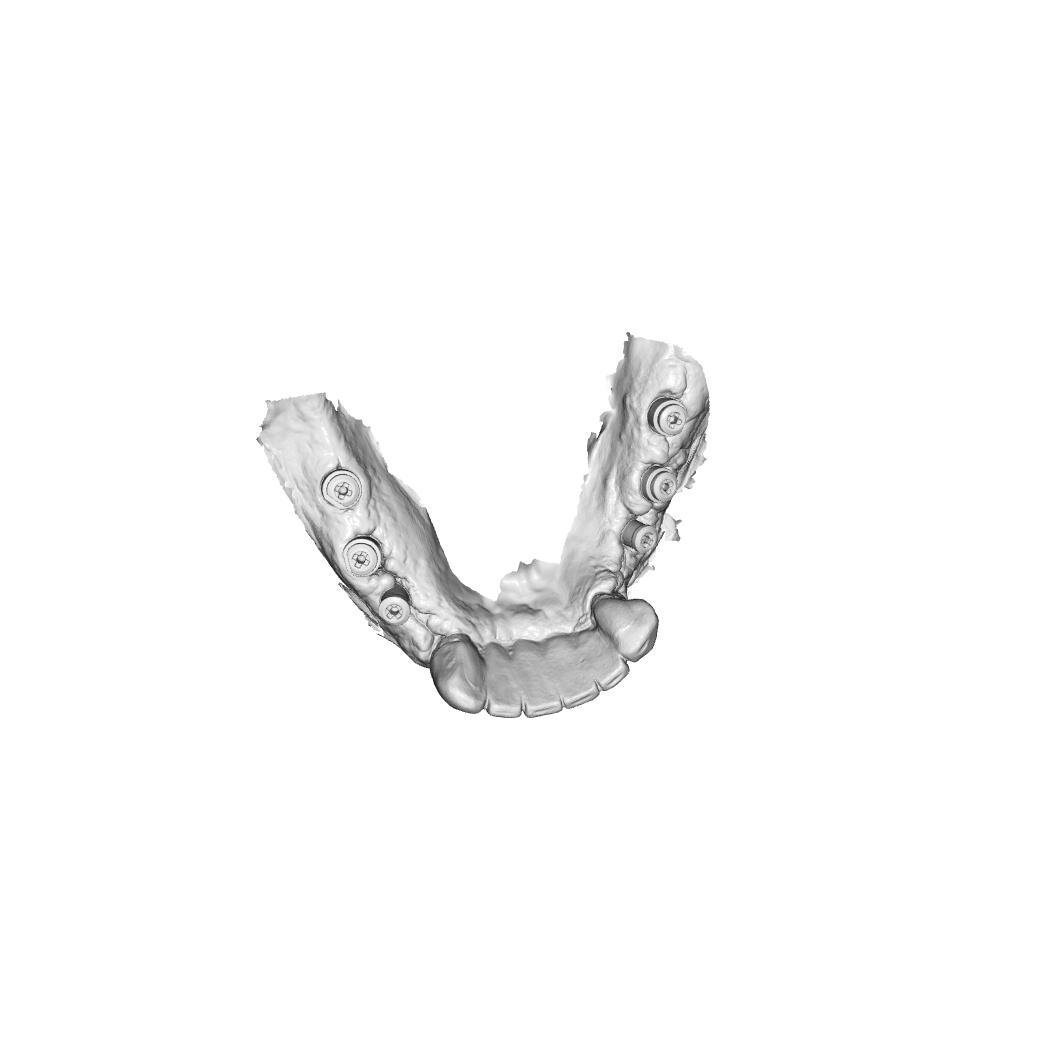canine: (428, 629, 487, 715), (593, 593, 661, 664)
implant_plus: (339, 535, 384, 580), (319, 467, 363, 511), (646, 394, 689, 439), (618, 518, 660, 555), (643, 465, 679, 507), (376, 591, 415, 626)
incisor: (588, 642, 632, 695), (515, 671, 563, 719), (554, 662, 600, 711), (482, 672, 526, 722)
